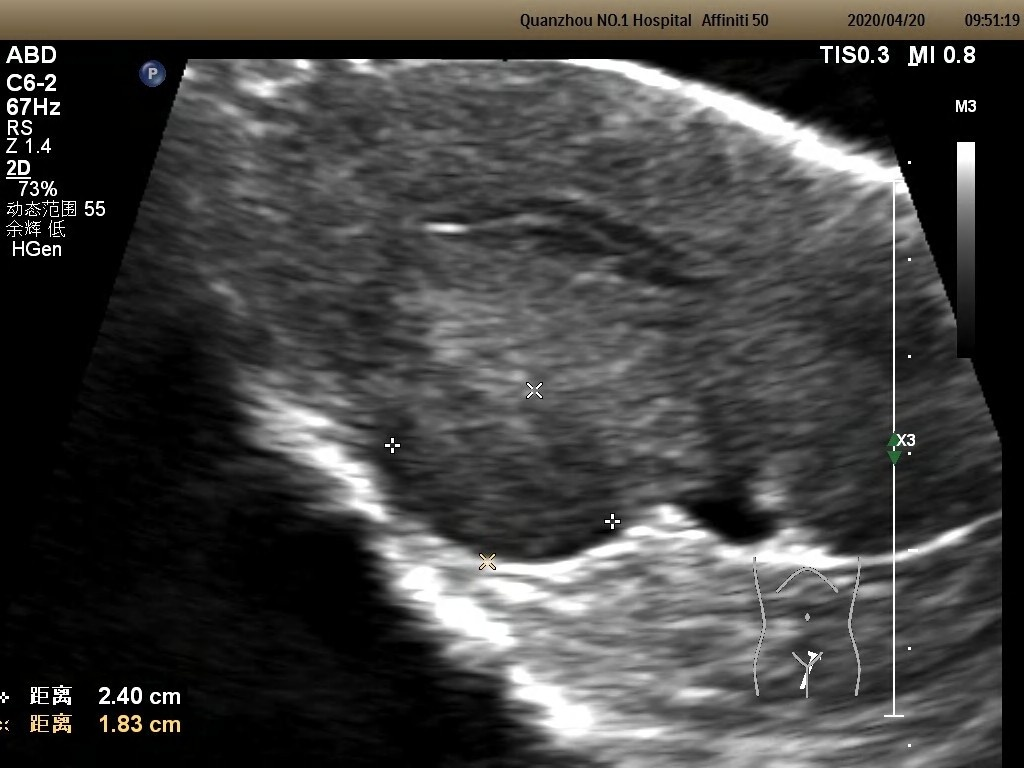肌瘤: (392, 389, 613, 561)
